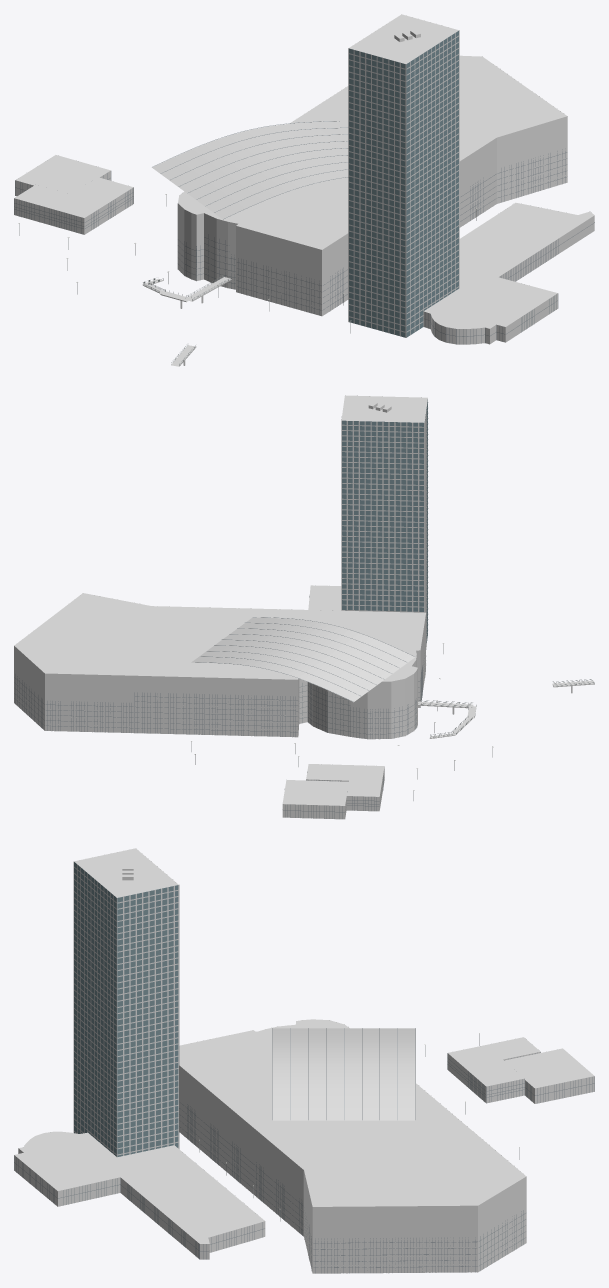
3 views of the same model, one above another, from view 1: azimuth 30°, elevation 25°; view 2: azimuth 150°, elevation 25°; view 3: azimuth 270°, elevation 25° (orthographic). The views are drawn at different scales.
Parts seen in each view (by area): view 1: -1_-2_v02 米白石材, -1_-2_v02 深灰屋面, -1_-2_v02 中性蓝灰幕墙, -1_-2_v02 铝合金幕墙框, -1_-2_步行桥面 · 7m, -1_-2_桥栏杆银灰; view 2: -1_-2_v02 米白石材, -1_-2_v02 深灰屋面, -1_-2_v02 中性蓝灰幕墙, -1_-2_v02 铝合金幕墙框; view 3: -1_-2_v02 米白石材, -1_-2_v02 深灰屋面, -1_-2_v02 中性蓝灰幕墙, -1_-2_v02 铝合金幕墙框.
Part boxes in pixels (x1,y1,x2,y2): -1_-2_v02 米白石材: (14, 30, 594, 344); -1_-2_v02 深灰屋面: (14, 14, 594, 328); -1_-2_v02 中性蓝灰幕墙: (349, 31, 458, 337); -1_-2_v02 铝合金幕墙框: (14, 121, 594, 344); -1_-2_步行桥面 · 7m: (160, 277, 231, 366); -1_-2_桥栏杆银灰: (19, 195, 476, 365); -1_-2_v02 米白石材: (14, 395, 428, 819); -1_-2_v02 深灰屋面: (191, 395, 427, 805); -1_-2_v02 中性蓝灰幕墙: (342, 399, 427, 642); -1_-2_v02 铝合金幕墙框: (14, 596, 424, 818); -1_-2_v02 米白石材: (14, 854, 594, 1273); -1_-2_v02 深灰屋面: (14, 848, 594, 1243); -1_-2_v02 中性蓝灰幕墙: (74, 862, 178, 1156); -1_-2_v02 铝合金幕墙框: (14, 1028, 594, 1273).
Bounding box in the file's own units: 305 × 164 × 309.
